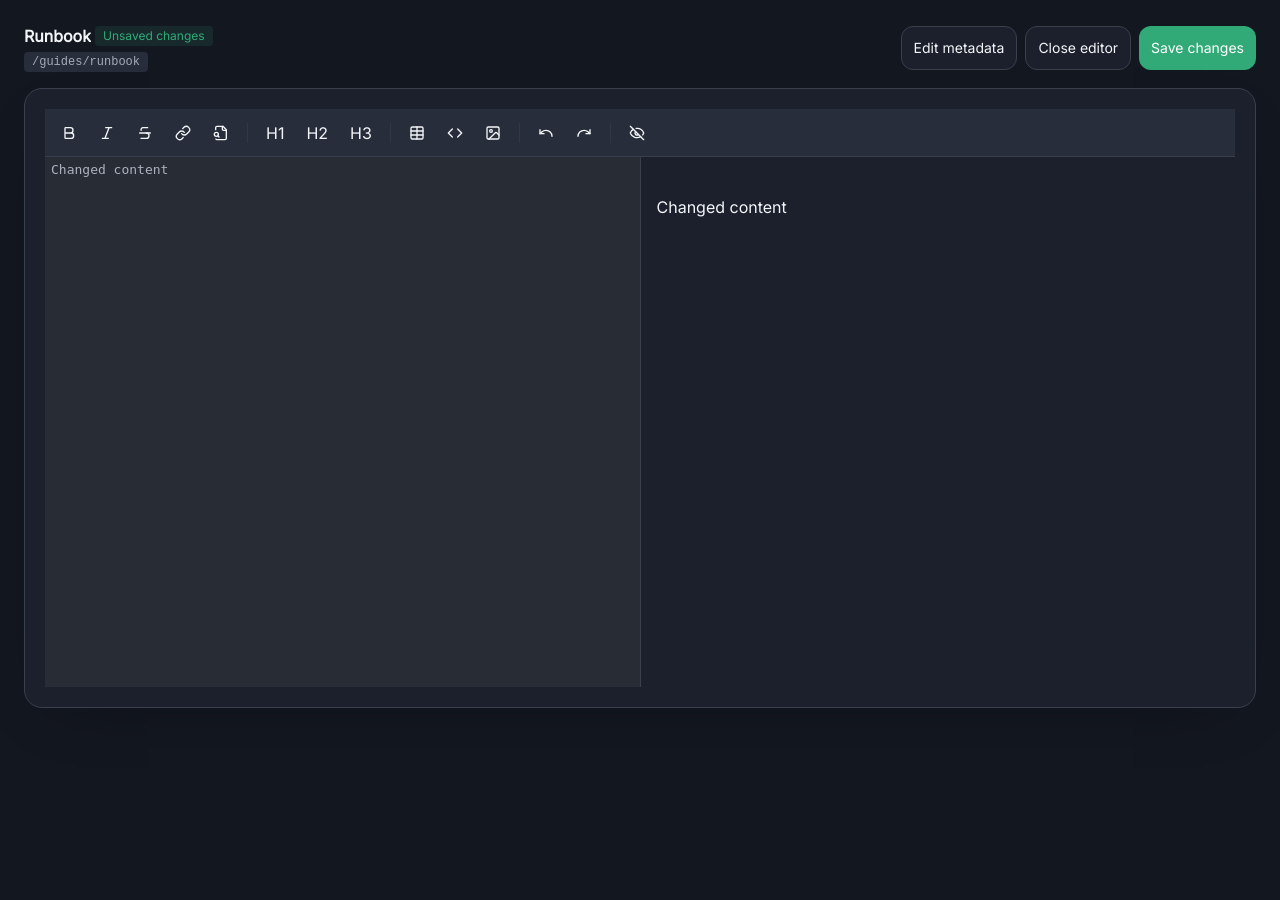
Test: PageEditor › shows metadata panel and unsaved changes dialog when closing dirty editor
Click the button "Edit metadata" at (959, 48), box [901, 26, 1017, 70]
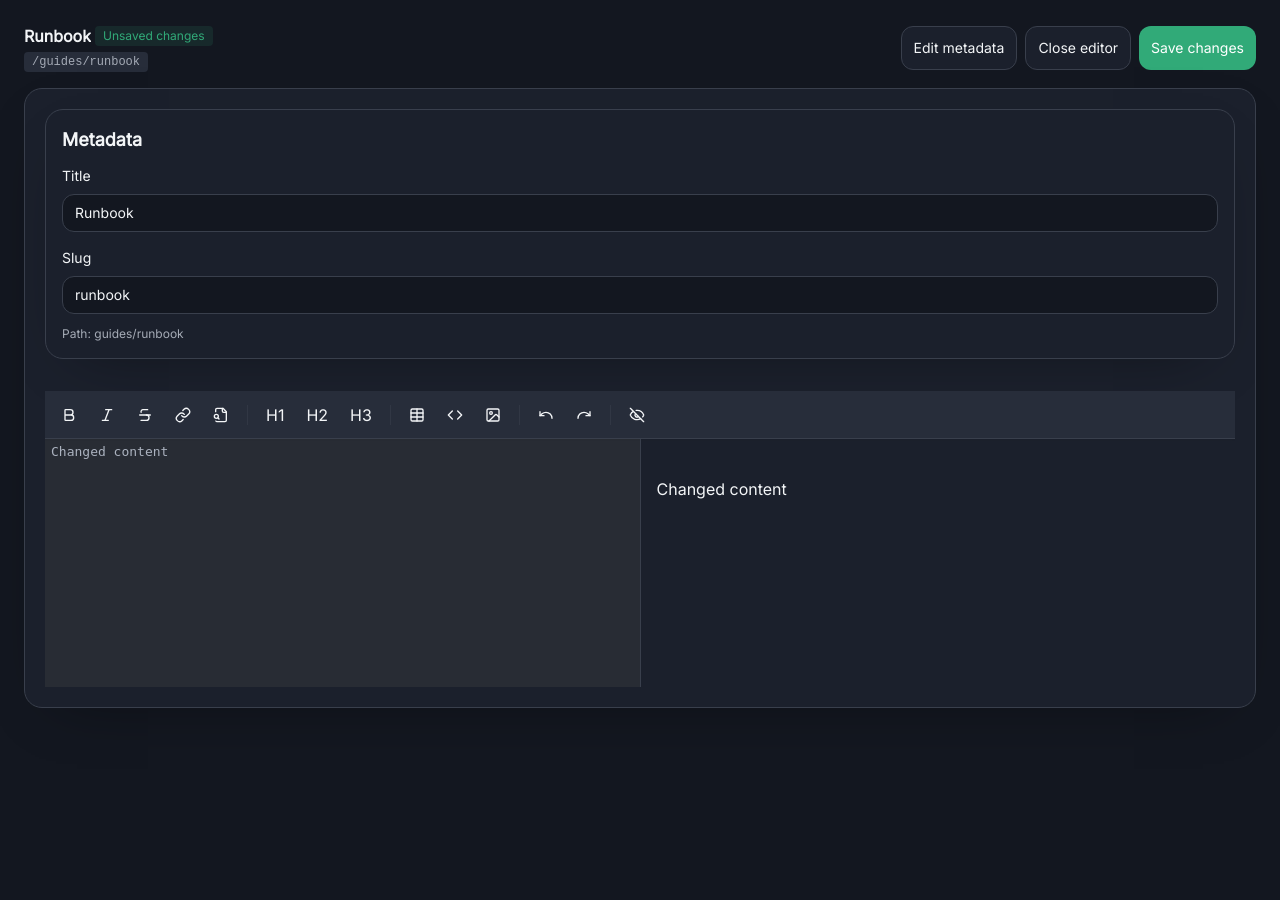
Expected: the text "Unsaved changes" is shown, [95, 26, 213, 46]
Result: the heading "Metadata" is shown at [62, 129, 142, 150]
Click the button "Close editor" at (1078, 48), box [1025, 26, 1131, 70]
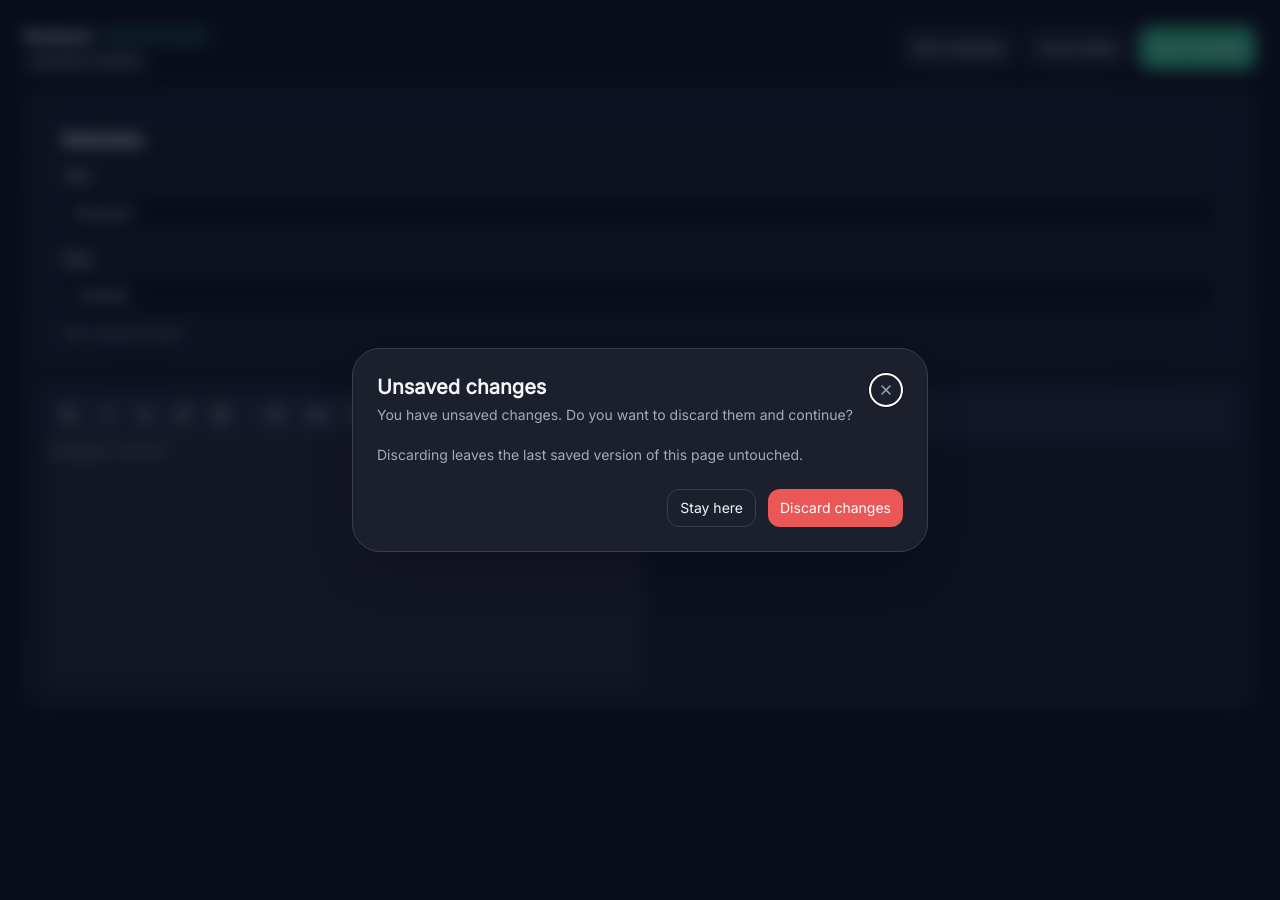
Result: the heading "Unsaved changes" is shown at [377, 375, 546, 399]
